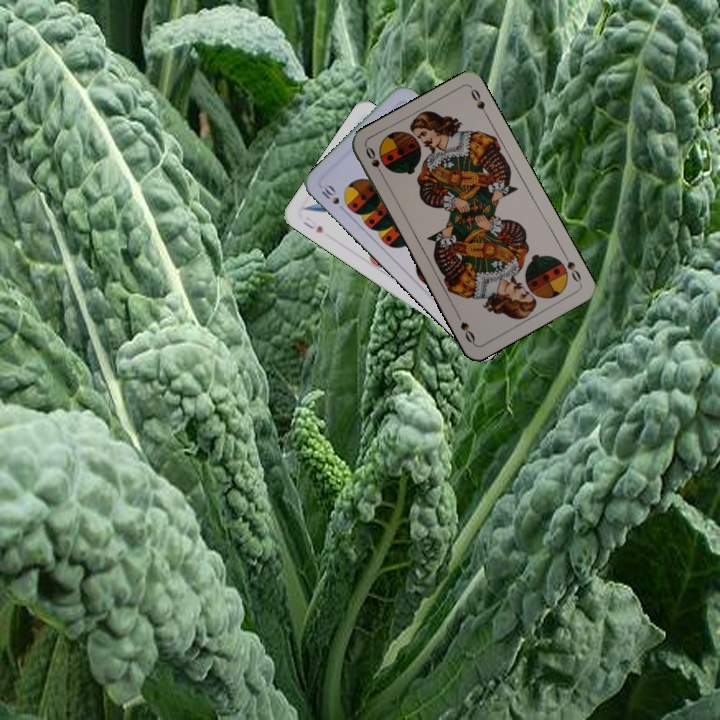HU: (299, 213, 326, 236)
S10: (315, 179, 349, 215)
SO: (361, 143, 387, 180), (559, 249, 584, 286)
